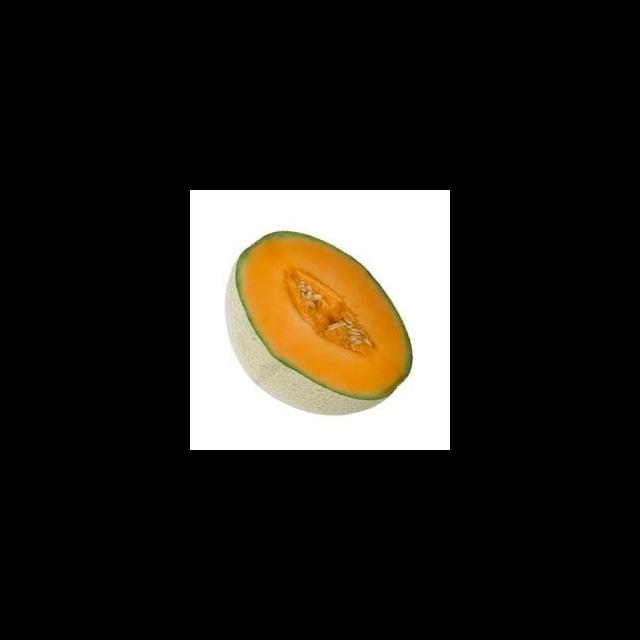Hami Melon: (224, 229, 413, 415)
